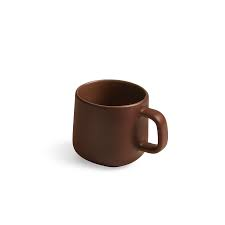mug: (69, 79, 185, 175)
